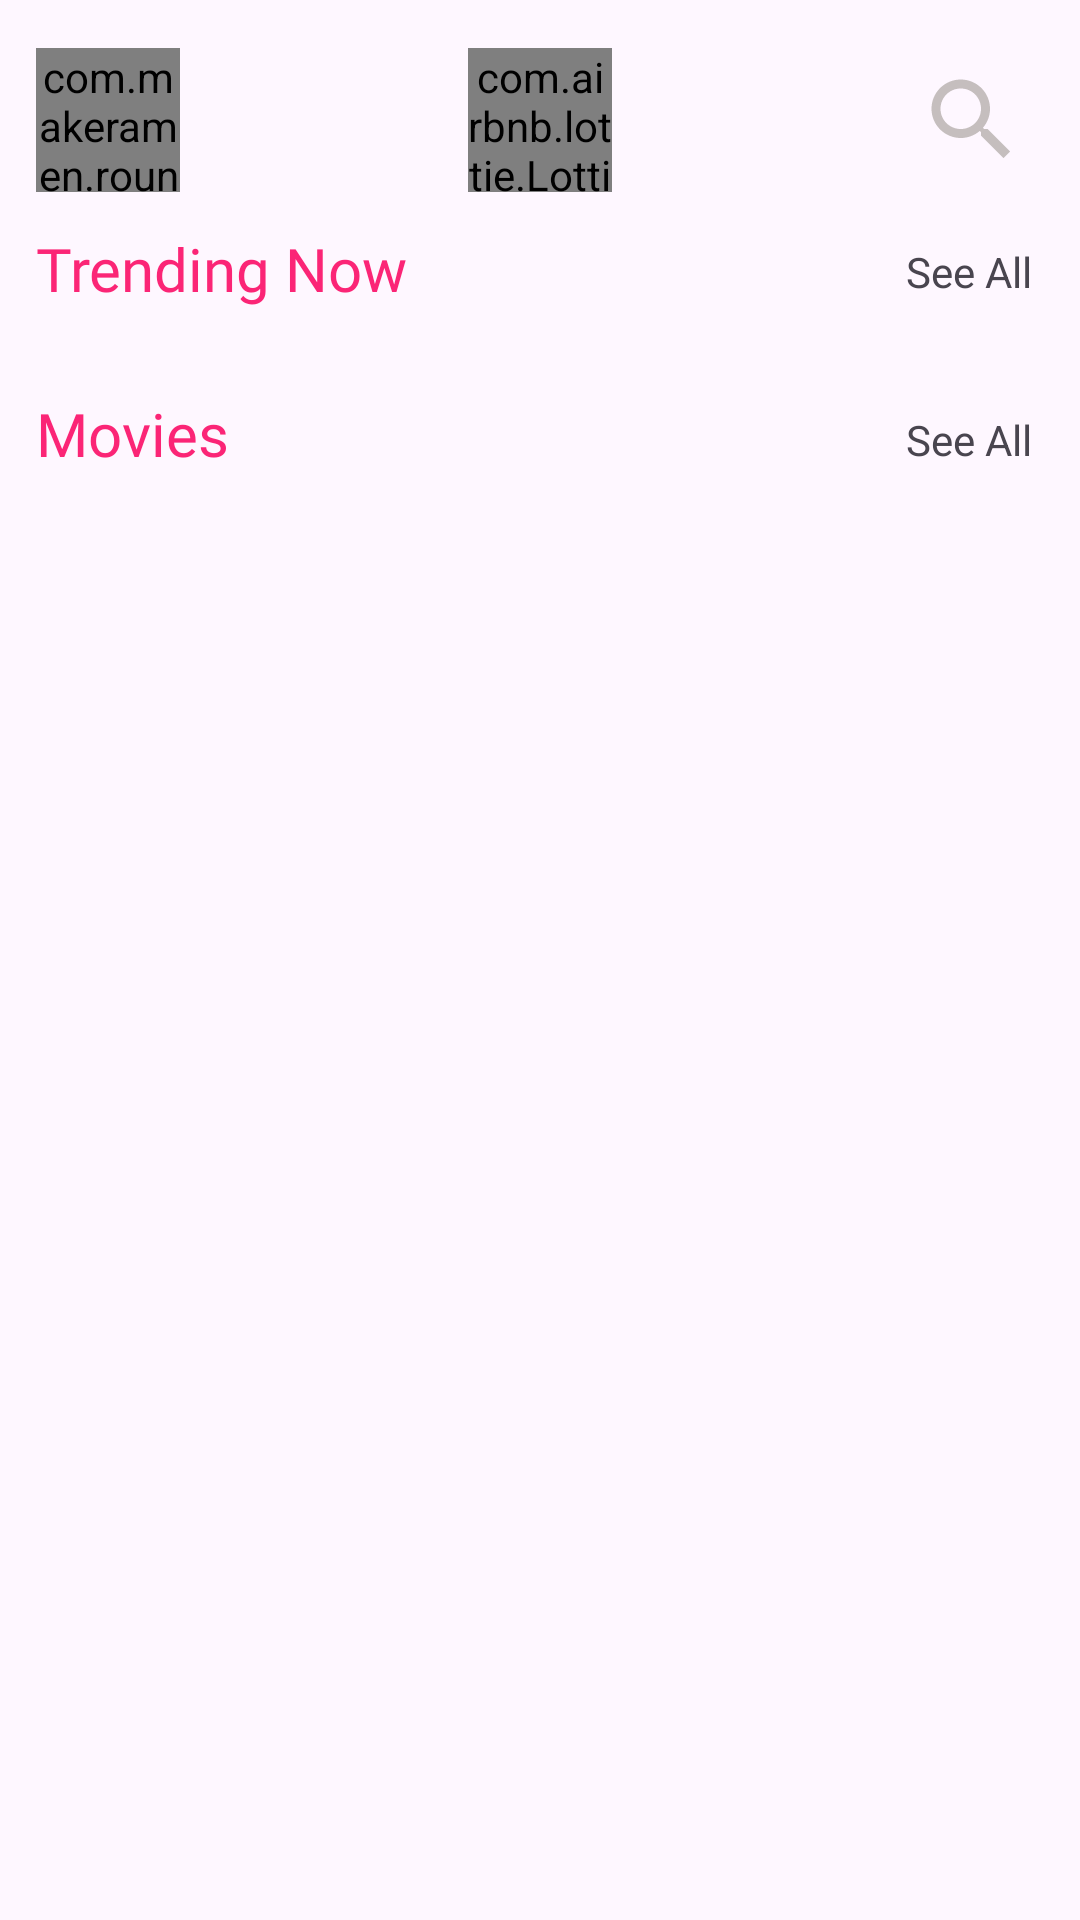

Icons on this 1080px×1920px Android screen, each with the point to tap as (x,y):
search: (970,118)
